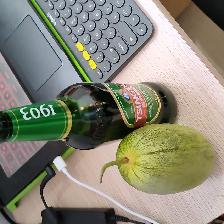gua: (121, 133, 211, 192)
